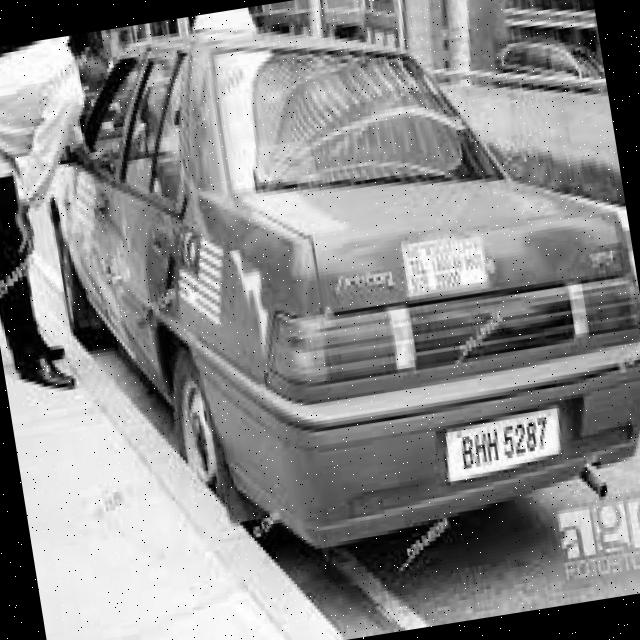License_Plate: (443, 413, 564, 480)
car: (45, 1, 640, 580)
